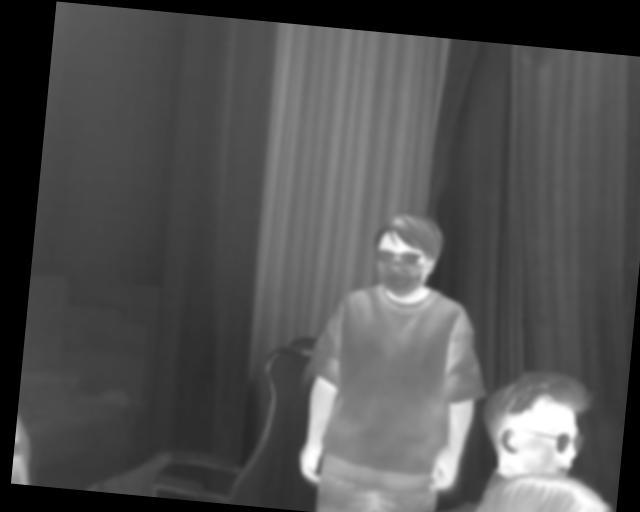face: (368, 209, 444, 301)
